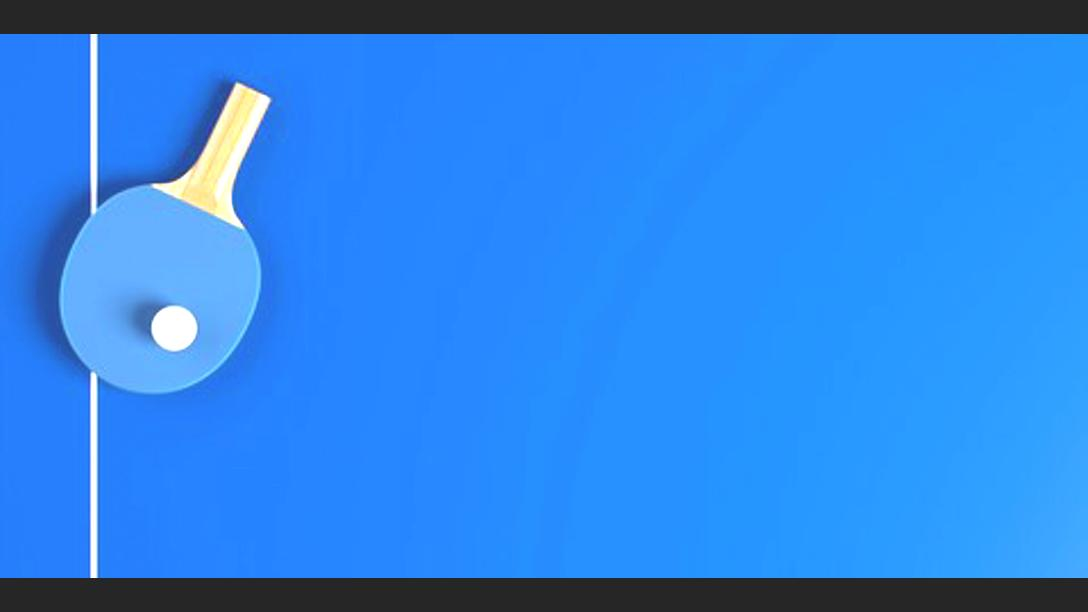Table-Tennis-Ball: (153, 306, 197, 352)
